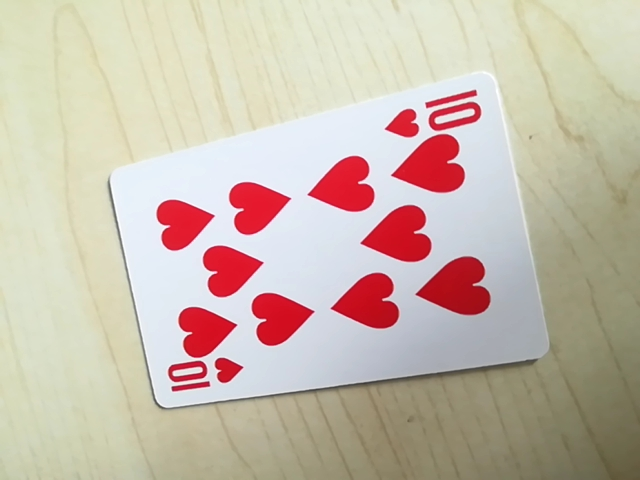hx 10: (386, 88, 488, 138), (163, 354, 244, 403)
